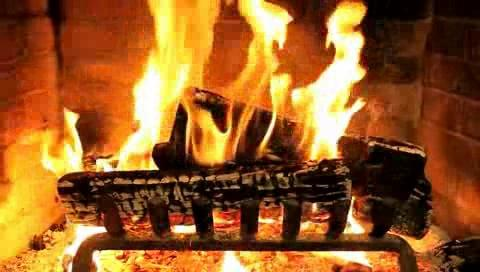fire: (126, 0, 382, 160)
